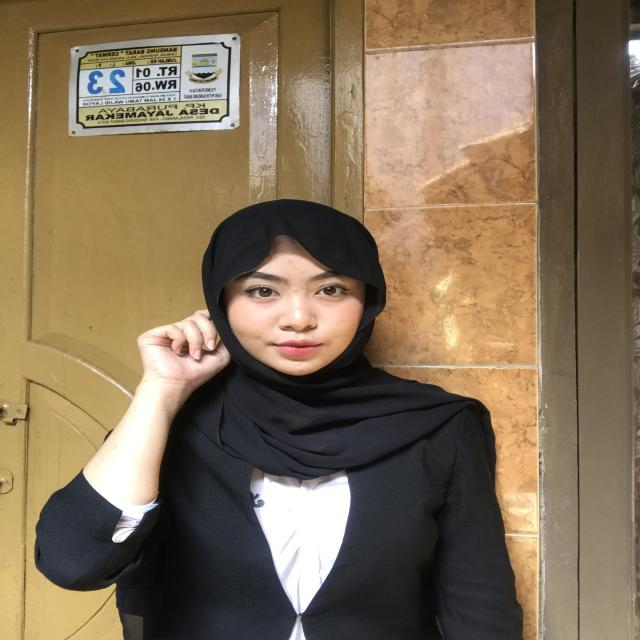ibu: (83, 298, 248, 448)
